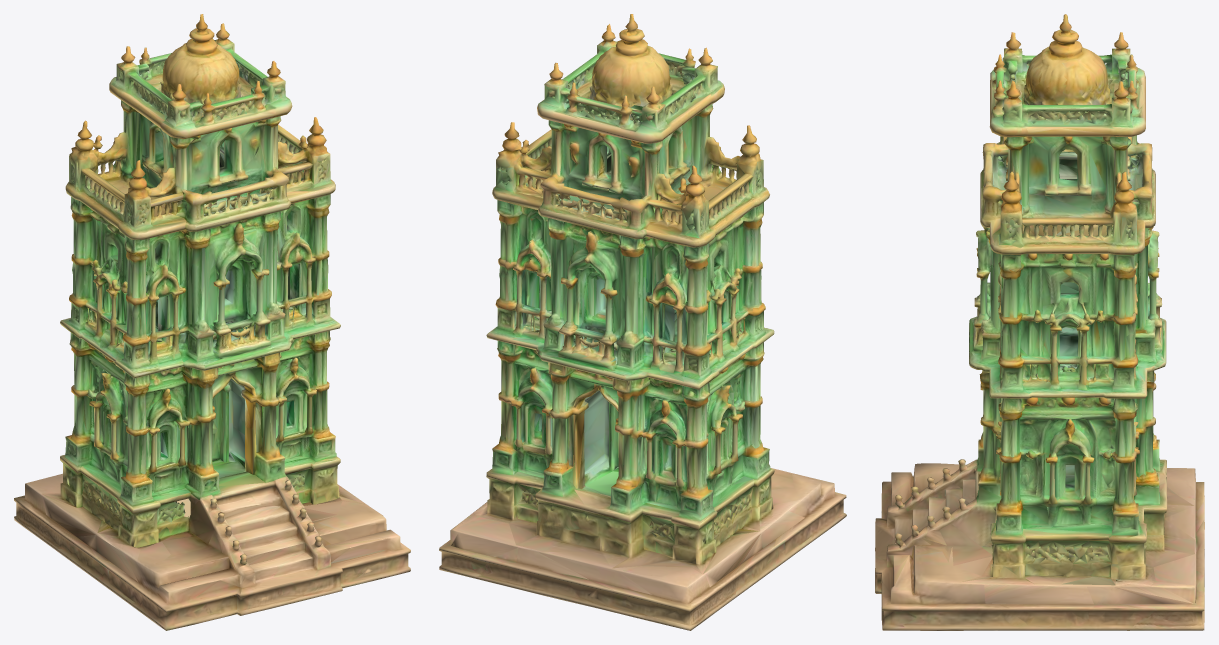
Rendered from Emerald_Palace_with_G.glb.
3 renders of one model, left to right at view 1: azimuth 30°, elevation 25°; view 2: azimuth 150°, elevation 25°; view 3: azimuth 270°, elevation 25°, orthographic. The views are drawn at different scales.
Visible parts, largest first — view 1: Emerald_Palace_with_G; view 2: Emerald_Palace_with_G; view 3: Emerald_Palace_with_G.
Boxes of the visible parts, box(x1,y1,x2,y2) form: Emerald_Palace_with_G: box(14, 14, 410, 630); Emerald_Palace_with_G: box(439, 14, 846, 630); Emerald_Palace_with_G: box(875, 14, 1204, 630).
Bounding box in the file's own units: 0.9307 × 1.9 × 1.02.
Materials: 1 (1 with a texture image).
